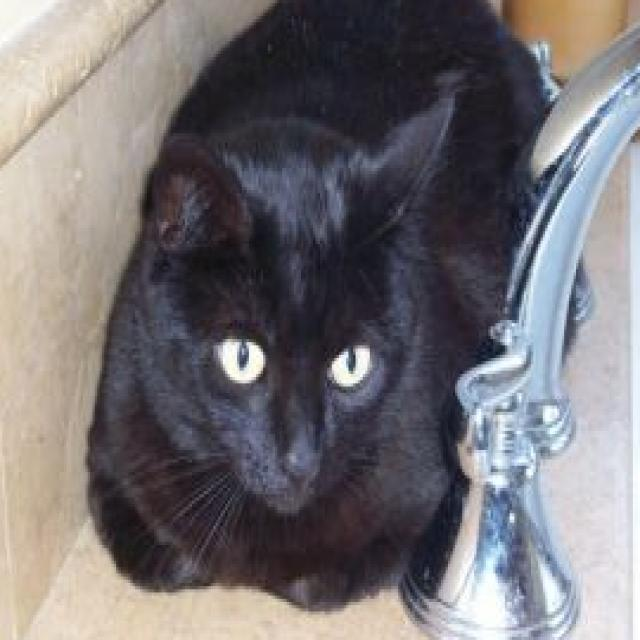Bombay: (83, 0, 547, 611)
